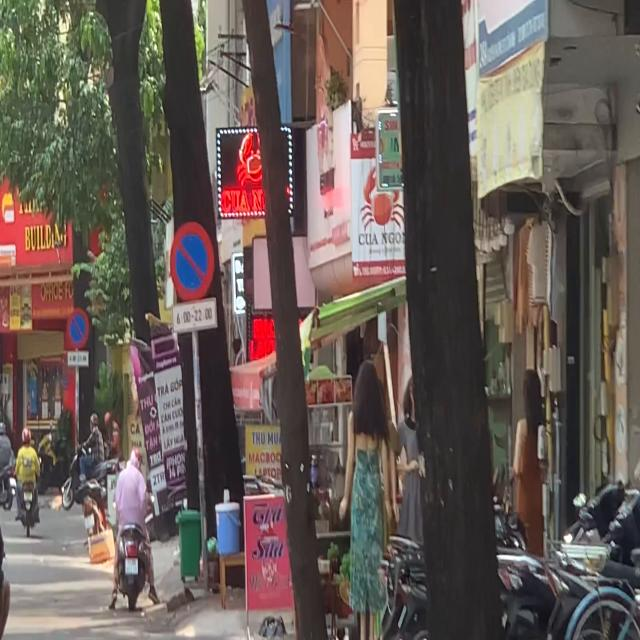Cam do: (170, 222, 215, 302), (67, 307, 89, 349)
